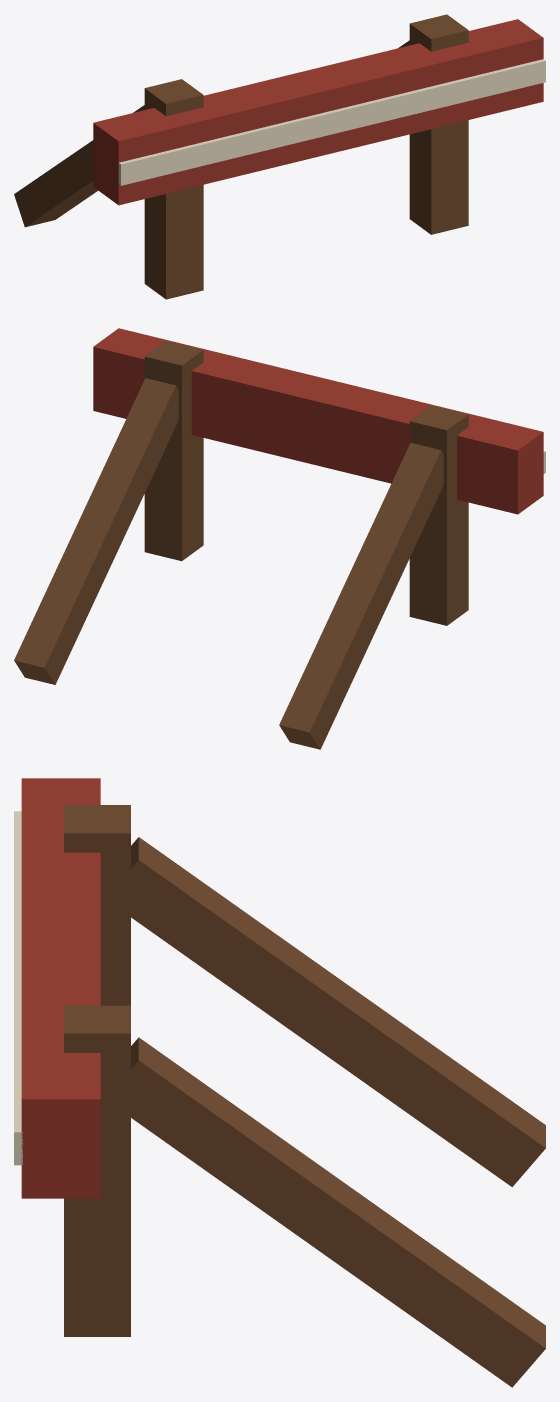
Rendered from SM_Track_BufferStop.fbx.
3 renders of one model, top to bottom at view 1: azimuth 30°, elevation 25°; view 2: azimuth 150°, elevation 25°; view 3: azimuth 270°, elevation 25°, orthographic. The views are drawn at different scales.
Parts seen in each view (by area): view 1: Track_BufferStop; view 2: Track_BufferStop; view 3: Track_BufferStop.
Boxes of the visible parts, x1=… form: Track_BufferStop: x1=14, y1=14, x2=545, y2=299; Track_BufferStop: x1=14, y1=328, x2=545, y2=749; Track_BufferStop: x1=14, y1=778, x2=545, y2=1387.
Bounding box in the file's own units: 250 × 175 × 129.
